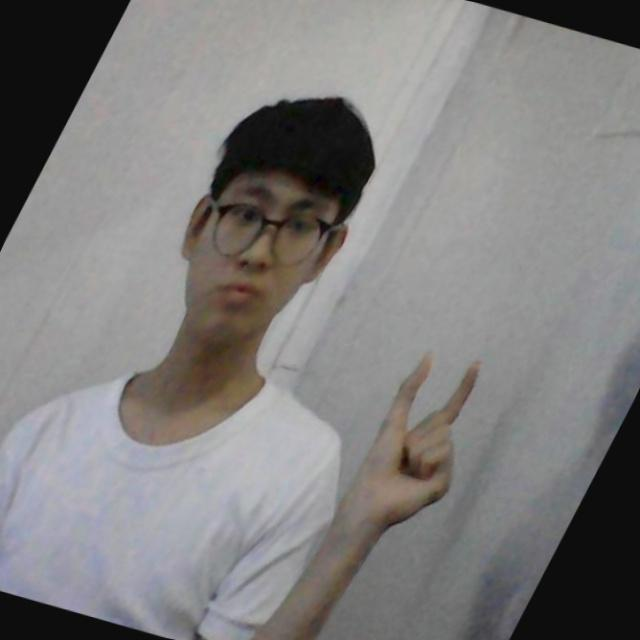U: (386, 350, 485, 482)
